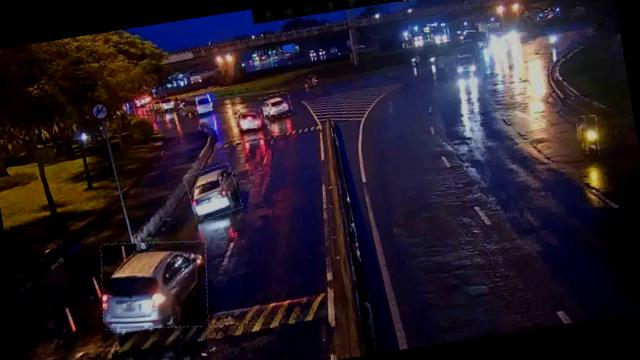Bike: (576, 114, 602, 157)
Car: (94, 231, 215, 338), (184, 164, 241, 220), (258, 92, 292, 120), (235, 106, 262, 130)
